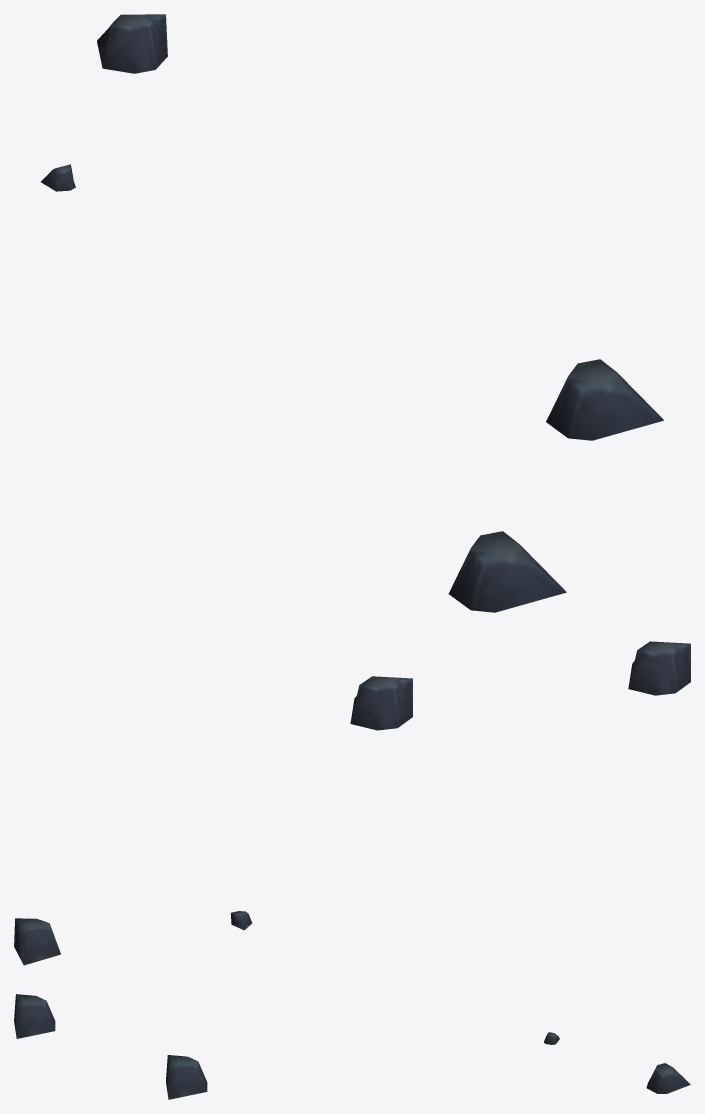
File: Area_06_35.fbx
3 views of the same model, one above another, from view 1: azimuth 30°, elevation 25°; view 2: azimuth 150°, elevation 25°; view 3: azimuth 270°, elevation 25° (orthographic). The views are drawn at different scales.
Visible parts, largest first — view 1: Area_06_35; view 2: Area_06_35; view 3: Area_06_35.
Part boxes in pixels (box(x1,y1,x2,y2)): Area_06_35: box(41, 14, 663, 612); Area_06_35: box(14, 641, 690, 965); Area_06_35: box(14, 994, 690, 1099).
Bounding box in the file's own units: 878 × 121 × 3032.
